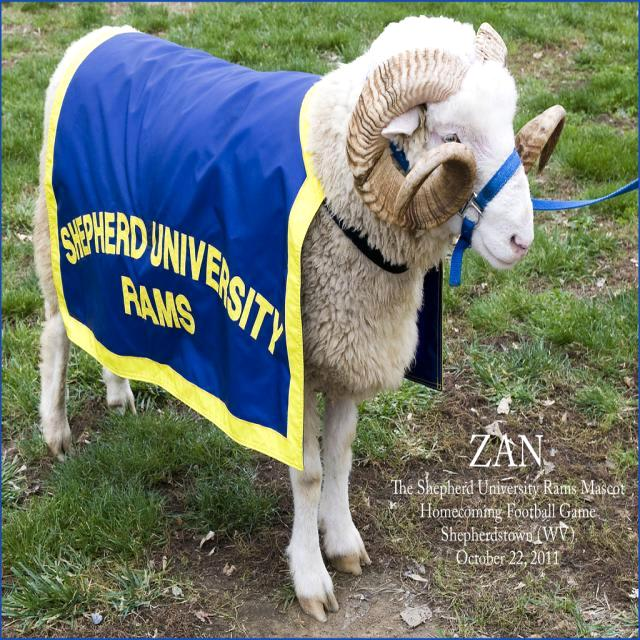sheep: (28, 16, 535, 617)
